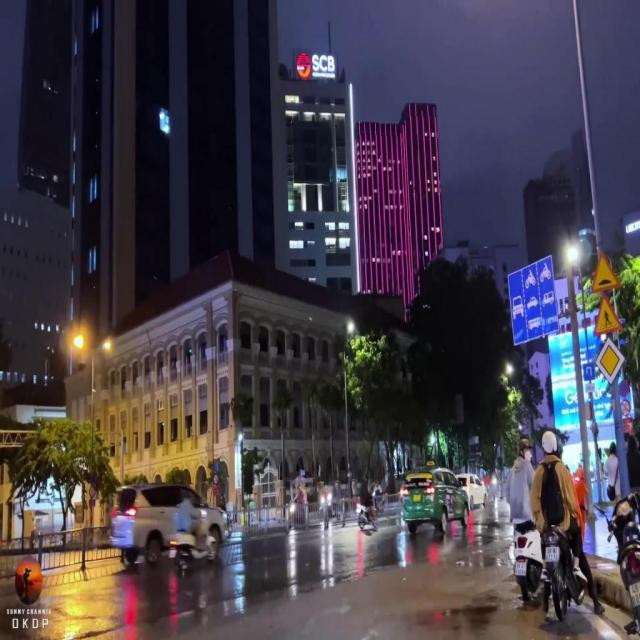cho_quay_xe: (582, 363, 596, 380)
chu_y_nguoi_di_bo_cat_ngang: (593, 292, 623, 336)
duong_co_song_map_mo_nhan_tao: (591, 248, 621, 293)
duong_uu_tien: (594, 337, 625, 385)
lan_duong_cho_tung_xe_theo_vach_ke_duong: (508, 256, 559, 346)
